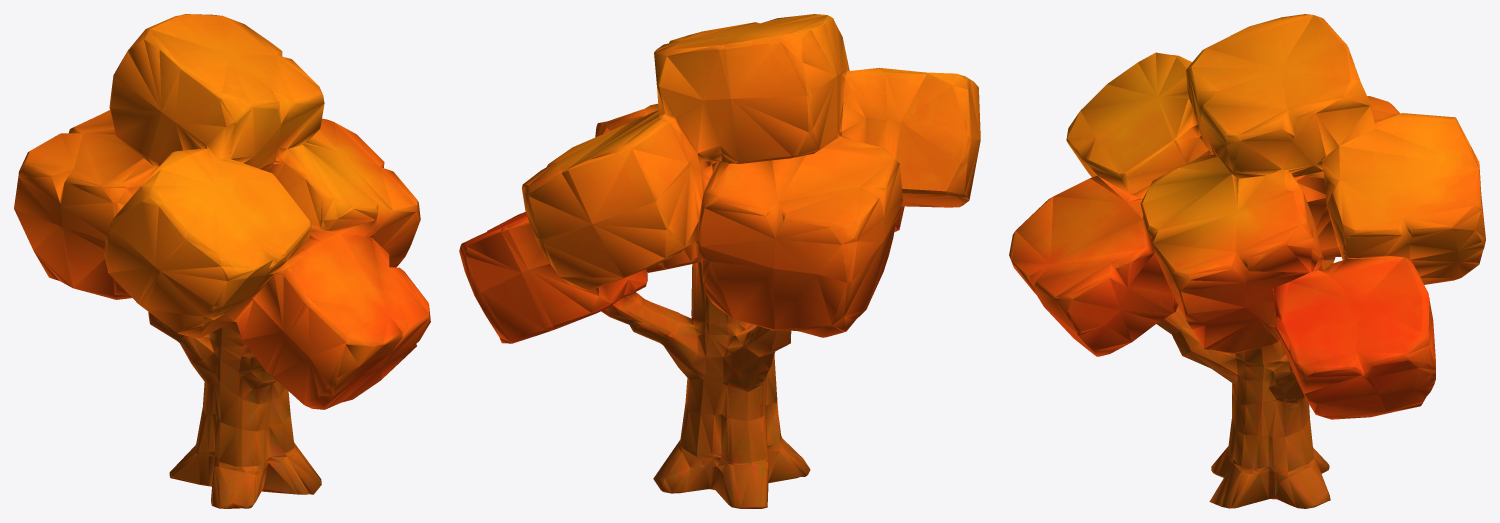
File: autumn_tree.glb
The picture shows the model from 3 angles, left to right: view 1: azimuth 30°, elevation 25°; view 2: azimuth 150°, elevation 25°; view 3: azimuth 270°, elevation 25°; orthographic projection. The views are drawn at different scales.
Parts seen in each view (by area): view 1: tripo_node_d648f6fe-81da-4b27-a1ed-ff725e71faba; view 2: tripo_node_d648f6fe-81da-4b27-a1ed-ff725e71faba; view 3: tripo_node_d648f6fe-81da-4b27-a1ed-ff725e71faba.
Part boxes in pixels (left/top/right/bottom): tripo_node_d648f6fe-81da-4b27-a1ed-ff725e71faba: left=14, top=14, right=430, bottom=508; tripo_node_d648f6fe-81da-4b27-a1ed-ff725e71faba: left=459, top=14, right=980, bottom=508; tripo_node_d648f6fe-81da-4b27-a1ed-ff725e71faba: left=1009, top=14, right=1485, bottom=508.
Size of the model in its own units: 18.9 by 22 by 21.83.
1 material, 1 textured.
